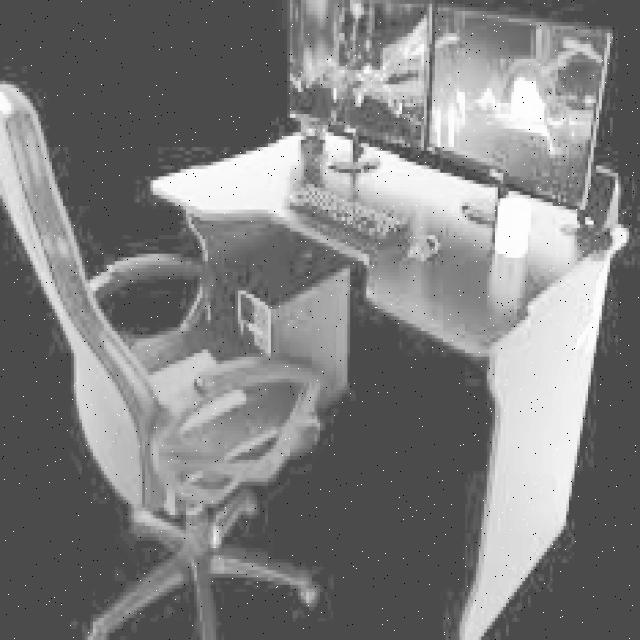book: (0, 77, 331, 640)
table: (150, 121, 632, 640)
